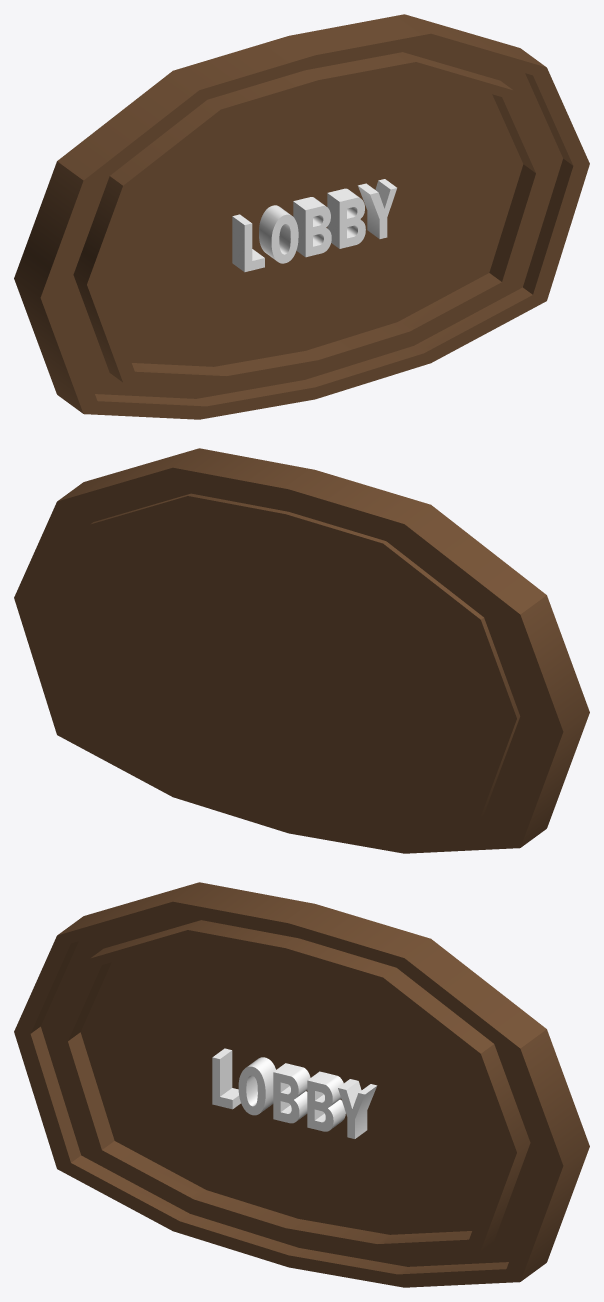
The model's file is lobbysign.glb.
3 renders of one model, top to bottom at view 1: azimuth 30°, elevation 25°; view 2: azimuth 150°, elevation 25°; view 3: azimuth 330°, elevation 25°, orthographic.
Visible parts, largest first — view 1: polySurface6, polySurface5, B1, B2, O5, Y1, L2; view 2: polySurface6, polySurface5; view 3: polySurface6, polySurface5, B1, B2, O5, Y1, L2.
Boxes of the visible parts, bbox=[...] form: polySurface6: bbox=[73, 52, 549, 387]; polySurface5: bbox=[14, 14, 589, 419]; B1: bbox=[327, 188, 365, 248]; B2: bbox=[293, 197, 331, 257]; O5: bbox=[259, 205, 298, 263]; Y1: bbox=[358, 179, 396, 238]; L2: bbox=[232, 214, 264, 272]; polySurface6: bbox=[54, 493, 520, 821]; polySurface5: bbox=[14, 448, 589, 853]; polySurface6: bbox=[54, 920, 530, 1255]; polySurface5: bbox=[14, 882, 589, 1287]; B1: bbox=[307, 1071, 345, 1131]; B2: bbox=[273, 1063, 310, 1123]; O5: bbox=[238, 1057, 275, 1115]; Y1: bbox=[338, 1079, 377, 1138]; L2: bbox=[212, 1048, 240, 1109].
Size of the model in its own units: 0.5812 by 0.3479 by 0.0604.
1 material, 1 textured.
